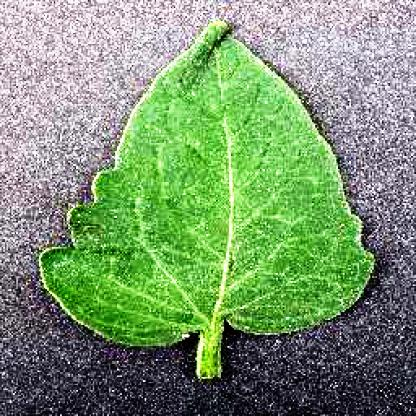Healthy: (36, 18, 374, 377)
